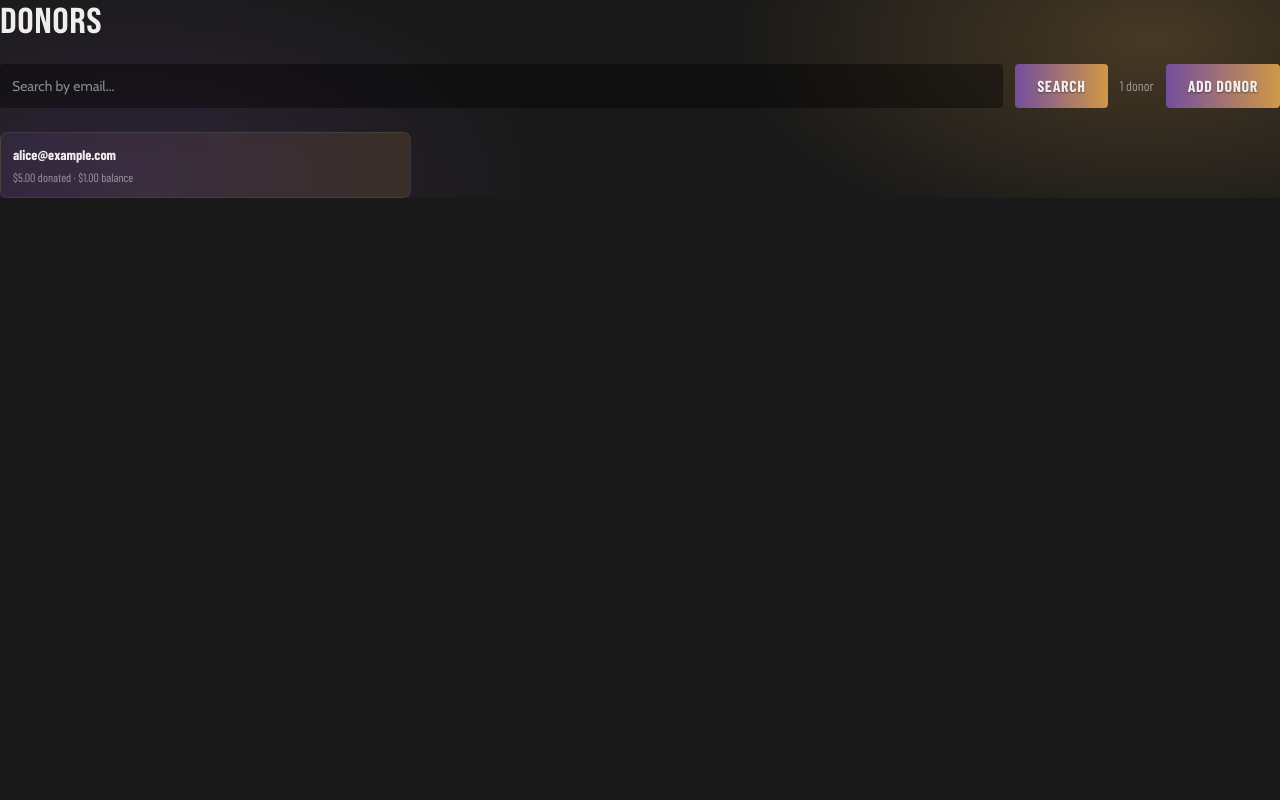
Test case: AdminDonors › regenerates a token and shows the magic link
Click the text "alice@example.com".
click(64, 154)  # box [13,146,116,163]
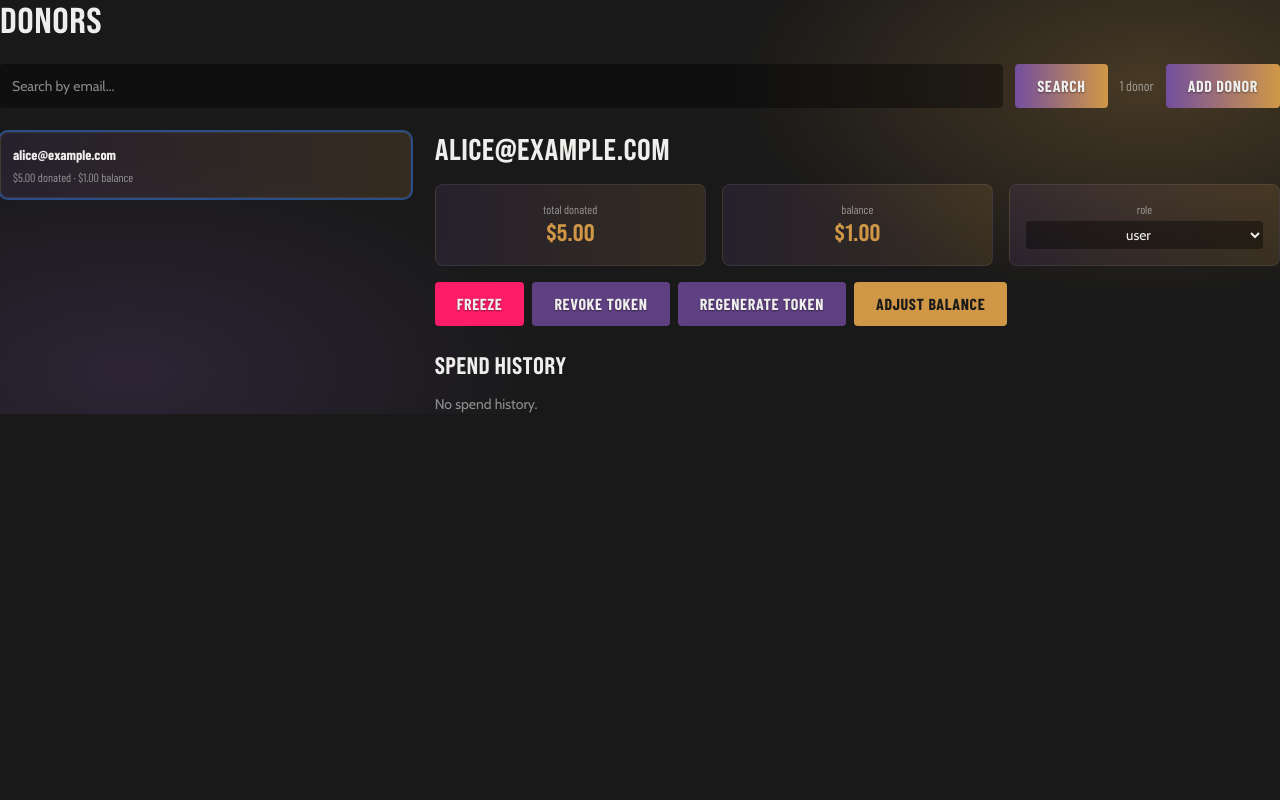
Click the button "regenerate token".
click(762, 304)  # box [678,282,846,326]
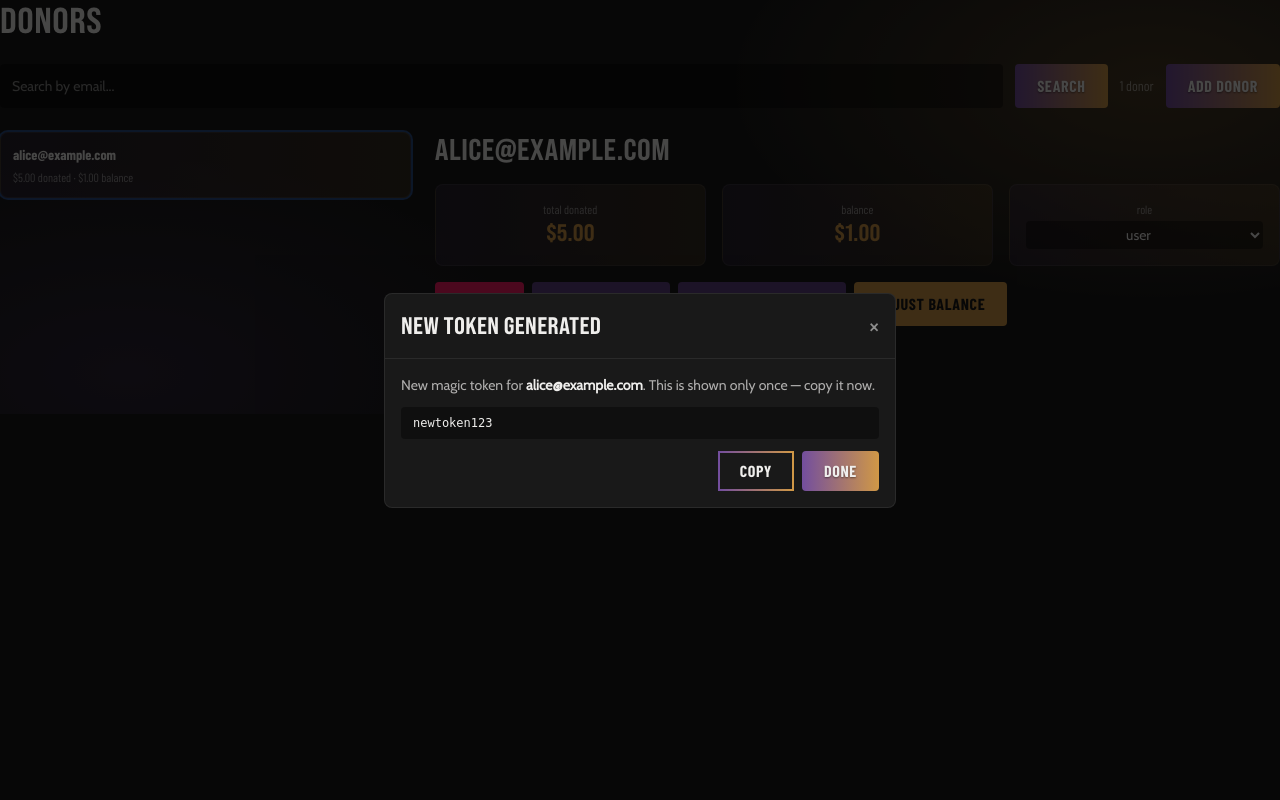
Now the heading "new token generated" is shown, box [401,310,601,342]
Now the field showing "newtoken123" is shown, box [401,406,879,438]
